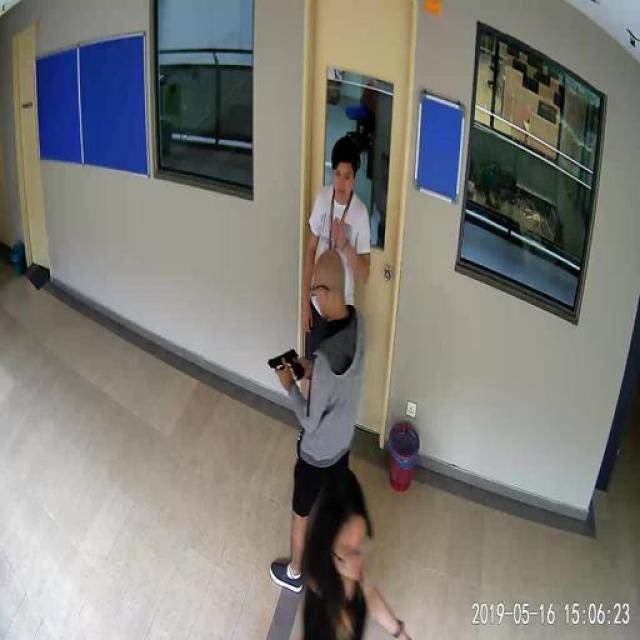Gun: (263, 343, 304, 384)
